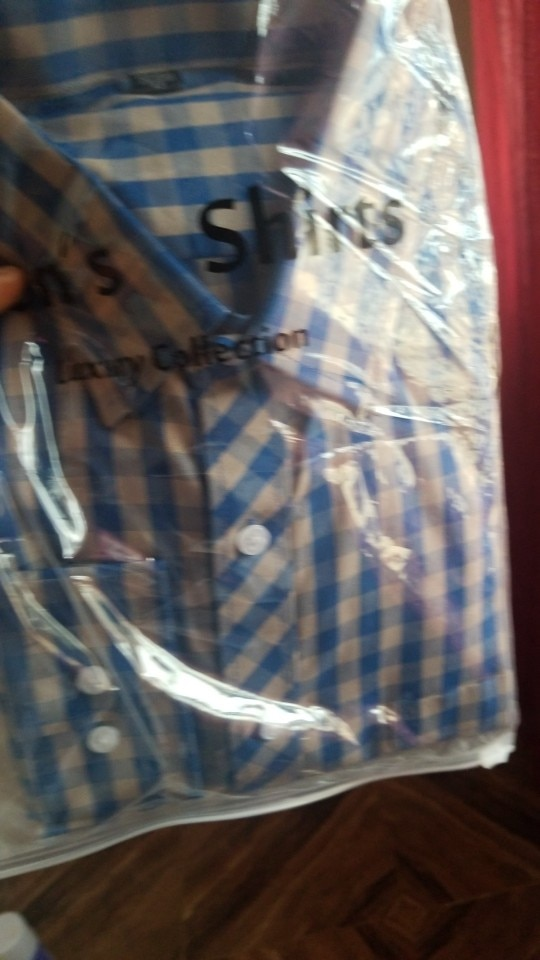shirts: (16, 39, 480, 767)
